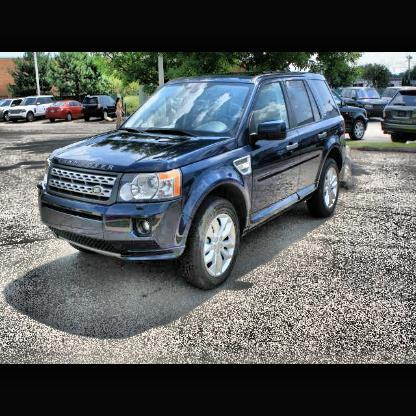Land Rover LR2 SUV 2012: (38, 70, 348, 288)
